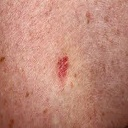Carcinoma: (55, 55, 72, 87)
